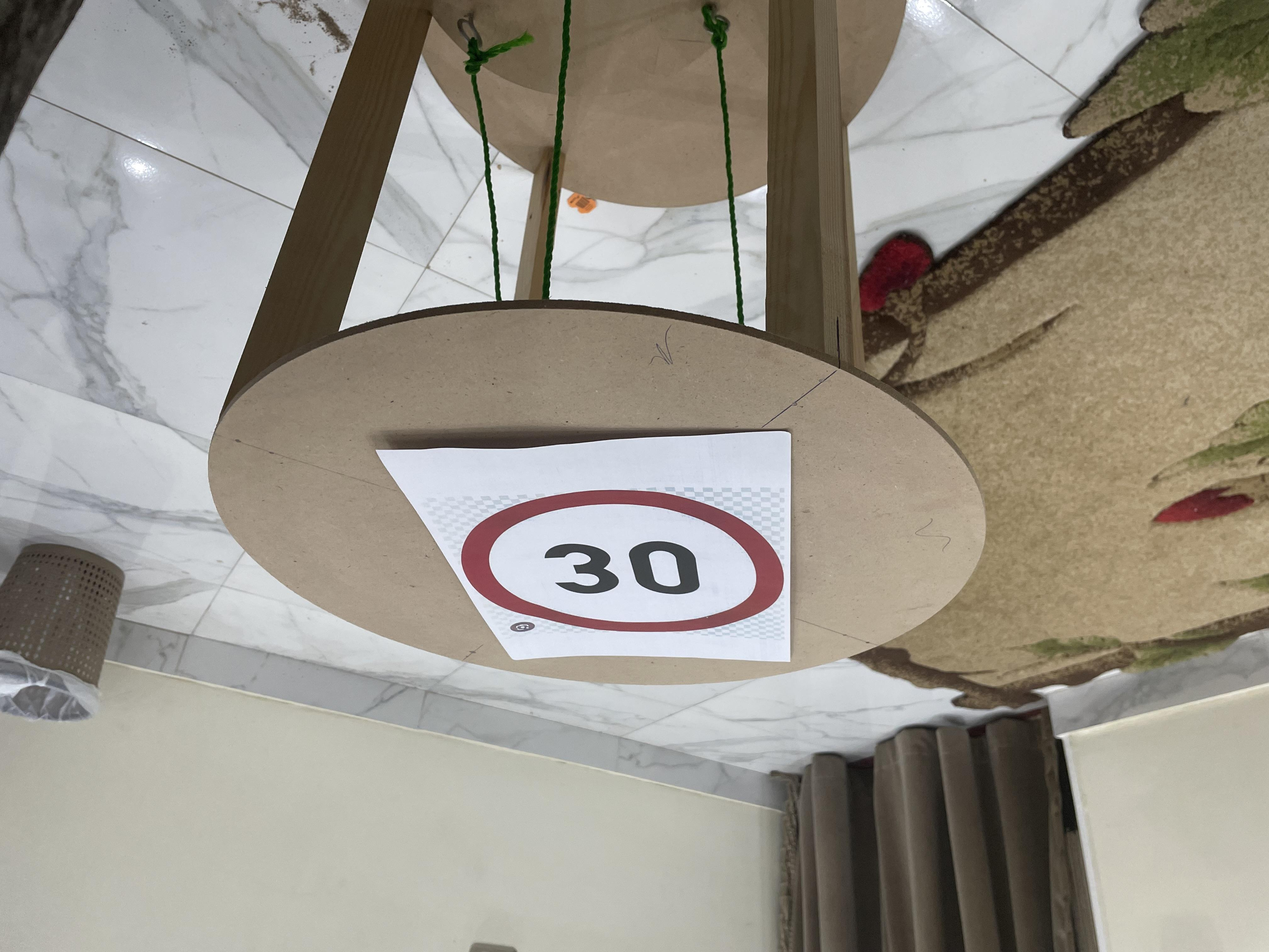30-speed: (478, 317, 811, 465)
